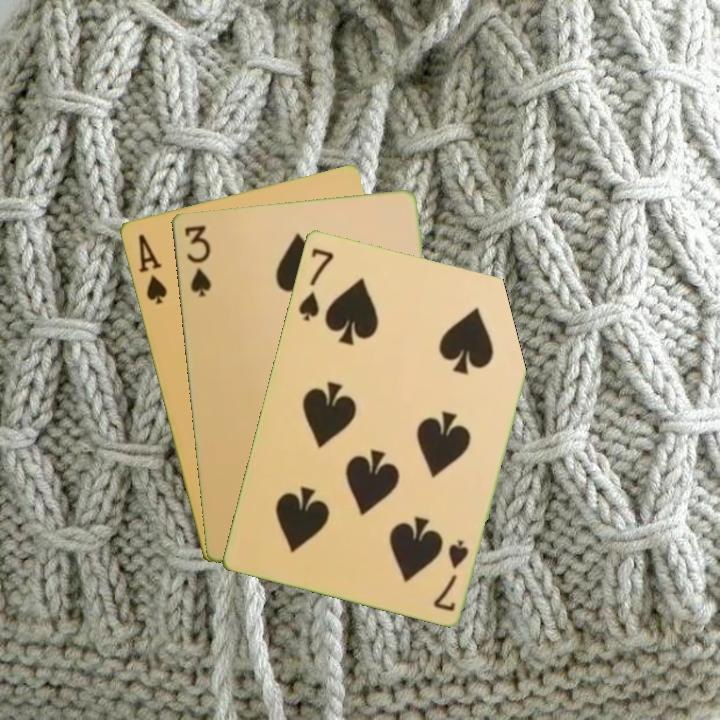3s: (180, 221, 214, 299)
7s: (429, 536, 472, 614), (294, 244, 336, 323)
As: (134, 230, 170, 307)
